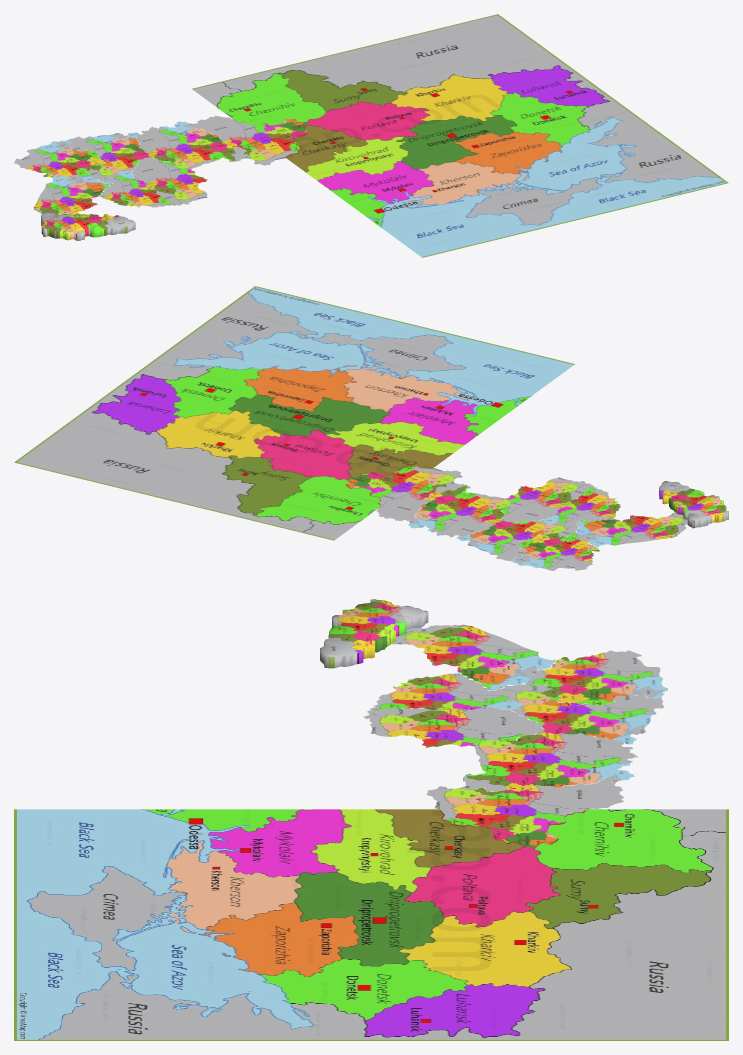
The model's file is map3d.fbx.
3 renders of one model, top to bottom at view 1: azimuth 30°, elevation 25°; view 2: azimuth 150°, elevation 25°; view 3: azimuth 270°, elevation 25°, orthographic. The views are drawn at different scales.
Visible parts, largest first — view 1: Объект_Плоскость, zhytomyr, Kyiv, khmelnytskyi, rivne, volyn, Лофт_2, Лофт_4, Лофт; view 2: Объект_Плоскость, zhytomyr, Kyiv, Лофт_2, rivne, khmelnytskyi, volyn, Лофт_4, Лофт; view 3: Объект_Плоскость, zhytomyr, Kyiv, Лофт_2, khmelnytskyi, rivne, volyn, Лофт_4, Лофт.
Part boxes in pixels (x1,y1,x2,y2): Объект_Плоскость: (192,14,728,257); zhytomyr: (136,121,246,169); Kyiv: (193,115,307,165); khmelnytskyi: (131,157,207,205); rivne: (68,132,149,181); volyn: (14,140,104,178); Лофт_2: (34,176,112,215); Лофт_4: (41,212,135,240); Лофт: (99,170,176,207); Объект_Плоскость: (14,286,574,540); zhytomyr: (408,483,510,537); Kyiv: (345,466,462,520); Лофт_2: (576,512,687,547); rivne: (456,520,578,560); khmelnytskyi: (500,477,591,522); volyn: (509,532,599,570); Лофт_4: (659,481,728,528); Лофт: (543,485,620,526); Объект_Плоскость: (14,809,728,1040); zhytomyr: (463,731,637,791); Kyiv: (426,779,624,847); Лофт_2: (392,624,555,690); khmelnytskyi: (363,707,543,747); rivne: (501,684,663,744); volyn: (525,650,667,705); Лофт_4: (320,599,428,668); Лофт: (370,673,523,711).
Bounding box in the file's own units: 1092 × 14.01 × 767.
Materials: 1 (1 with a texture image).
